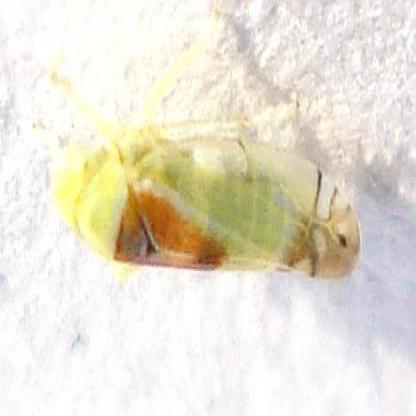green-leafhopper: (60, 104, 360, 269)
